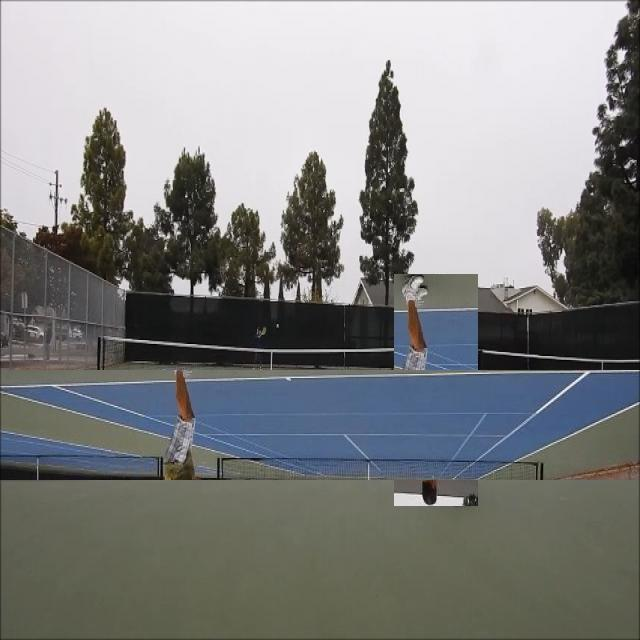court: (0, 370, 640, 480)
player: (394, 274, 478, 506)
